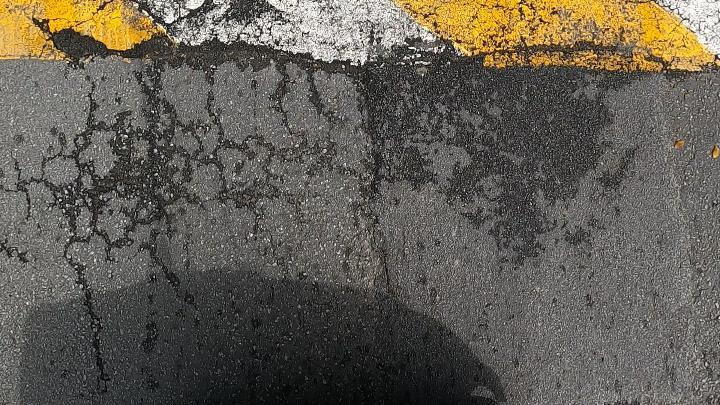Lane: (0, 0, 720, 74), (0, 0, 719, 70)
